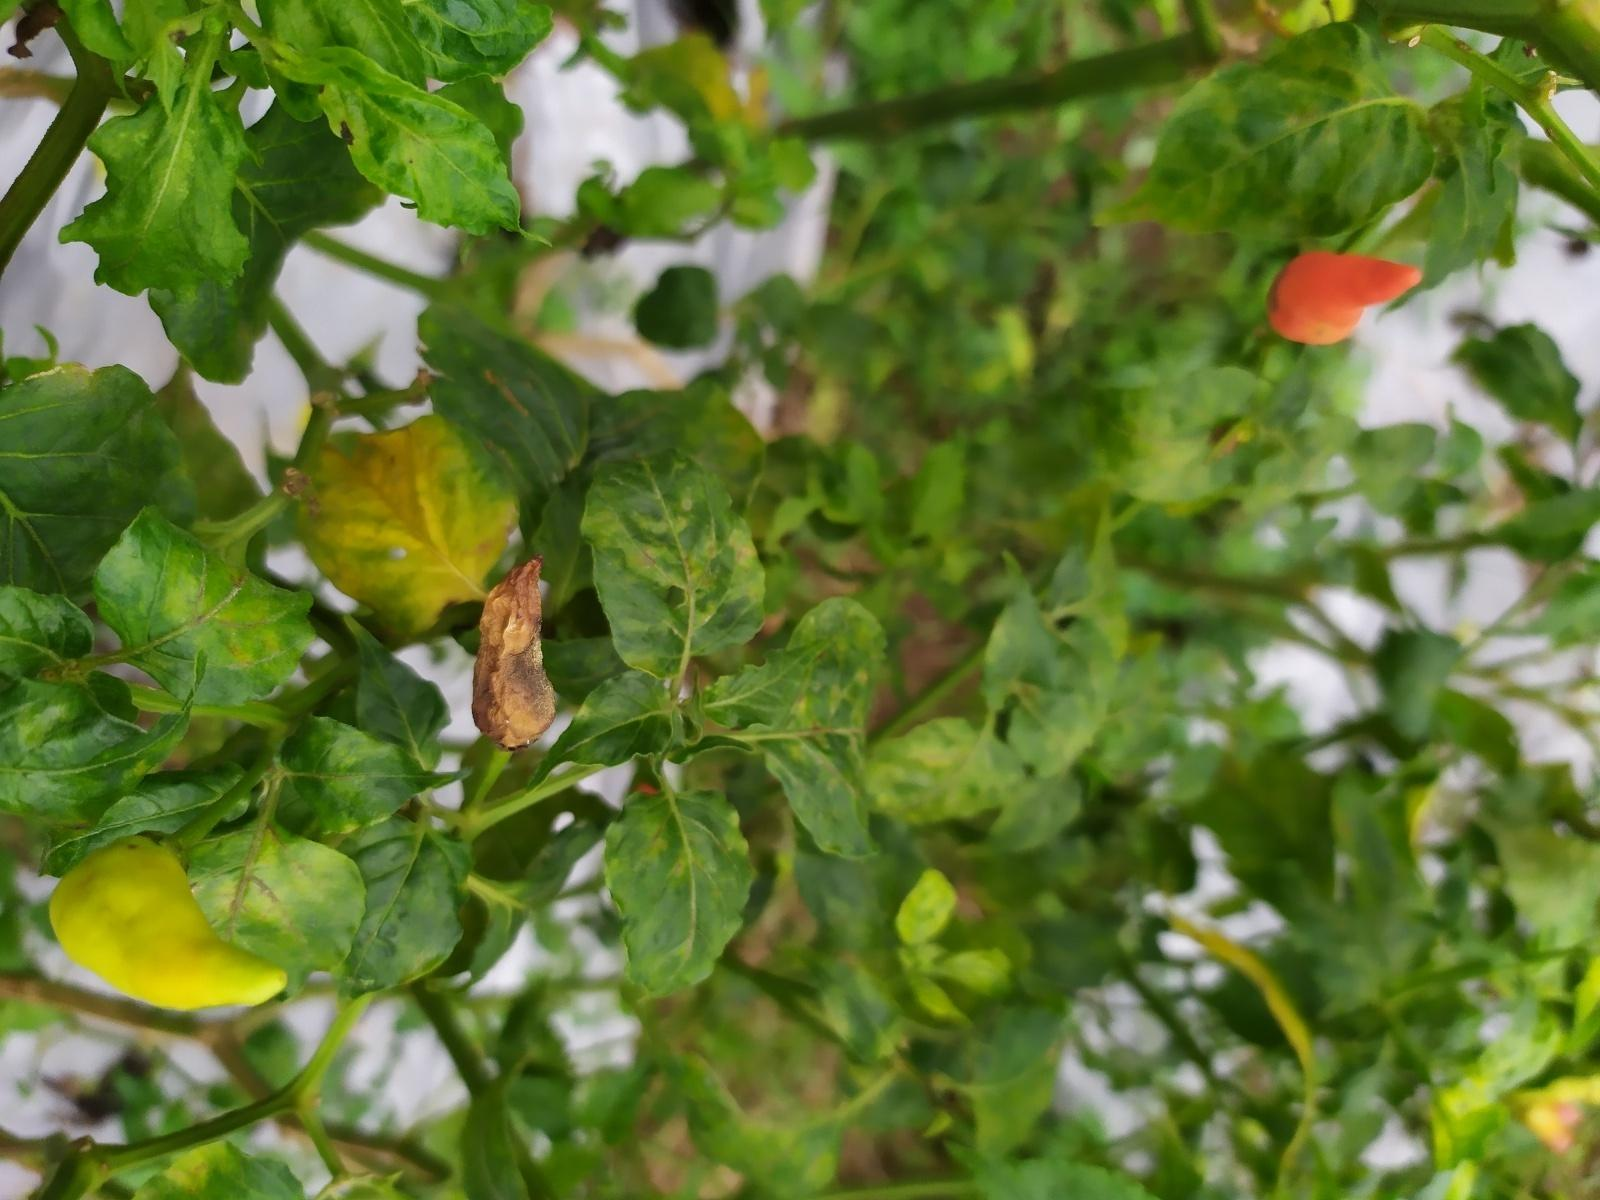antraknosa: (471, 556, 558, 748)
cabai_normal: (47, 830, 290, 1012), (1265, 250, 1422, 344)
